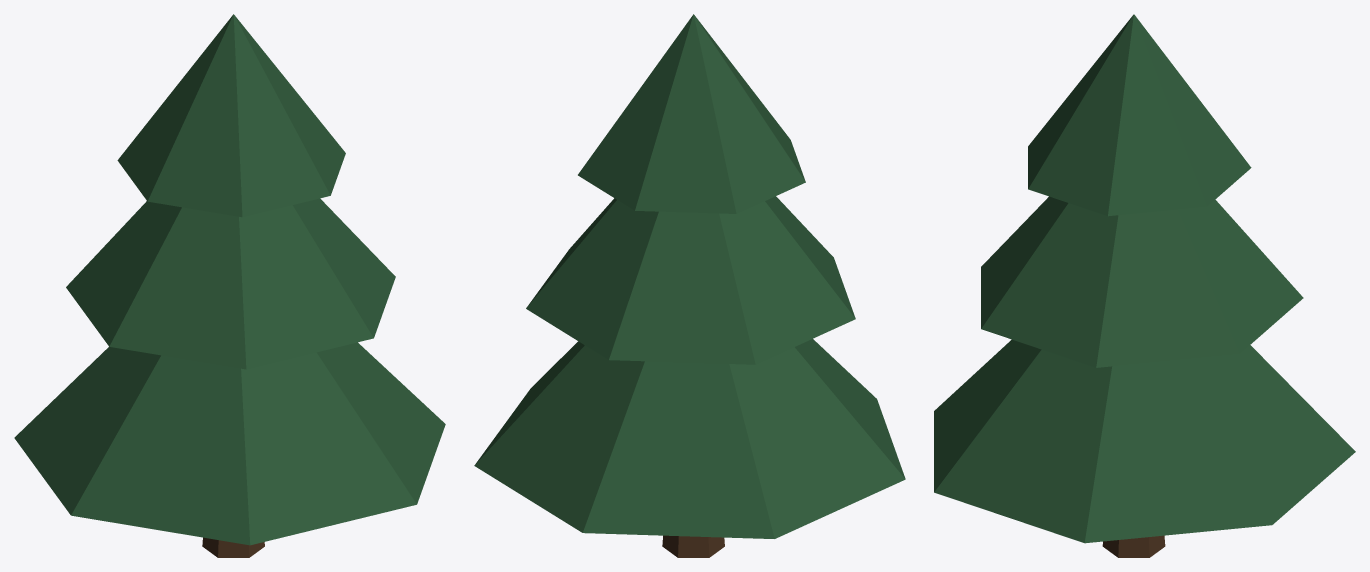
The model's file is TreePine.fbx.
3 renders of one model, left to right at view 1: azimuth 30°, elevation 25°; view 2: azimuth 150°, elevation 25°; view 3: azimuth 270°, elevation 25°, orthographic.
Visible parts, largest first — view 1: TreePine; view 2: TreePine; view 3: TreePine.
Boxes of the visible parts, x1,y1,x2,y2 form: TreePine: [14, 14, 445, 557]; TreePine: [474, 14, 905, 557]; TreePine: [934, 14, 1355, 557].
Size of the model in its own units: 1.66 by 2.25 by 1.62.
